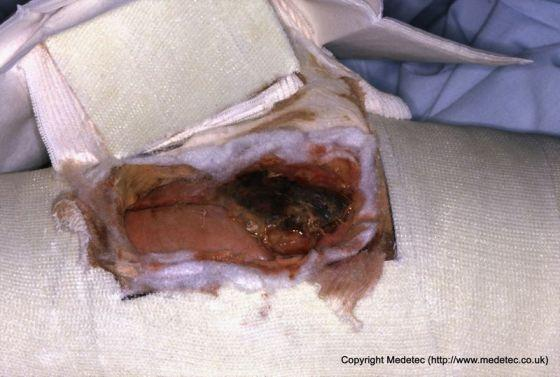NonPU: (88, 145, 385, 275)
